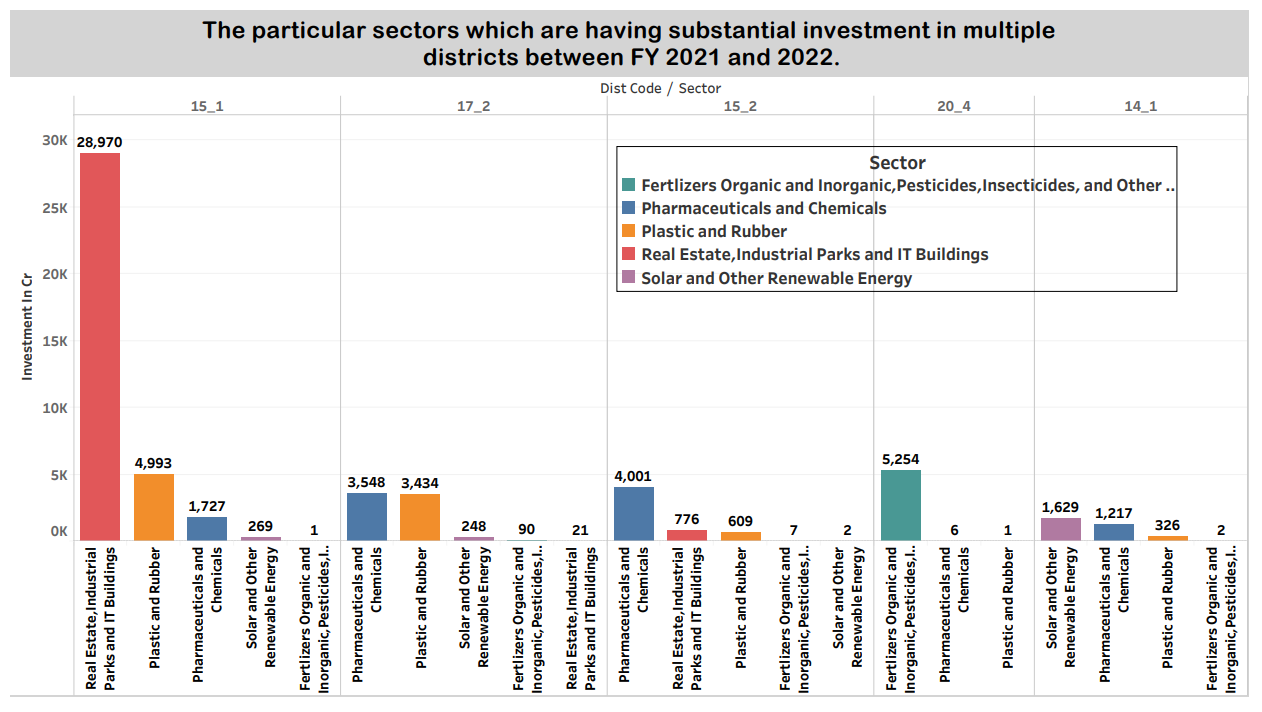

The page's visual inventory and layout, read from the dashboard file:
{"tool":"tableau","page":{"name":"Dashboard 9","canvas":[1800,800],"ordinal":11},"visuals":[{"type":"title","box":[8,8,1784,44]},{"type":"worksheet","title":"Sheet 15 (2)","mark":"Bar","rows":["Pre-owned_vehicles"],"cols":["dist_code"],"box":[8,52,1784,313.9]},{"type":"legend","title":"Sheet 15 (2)","param":"[federated.0o7fg4m1dvu29t17ewmwn1jh5kk7].[sum:Pre-owned_vehicles:qk]","box":[1278,93,271,54]},{"type":"worksheet","title":"Sheet 15 (4)","mark":"Bar","rows":["Pre-owned_vehicles"],"cols":["dist_code"],"box":[8,365.9,1784,314.1]},{"type":"text","box":[8,680,1784,112]}]}

Visuals, with their boxes on the page's 1800x800 design canvas (x1, y1, x2, y2). These are canvas units, not pixel positions in the 1262x712 screenshot, which may show the page scaled, cropped or inside an application window:
title: crop(8, 8, 1792, 52)
"Sheet 15 (2)" worksheet (Bar marks): crop(8, 52, 1792, 366)
"Sheet 15 (2)" legend: crop(1278, 93, 1549, 147)
"Sheet 15 (4)" worksheet (Bar marks): crop(8, 366, 1792, 680)
text: crop(8, 680, 1792, 792)
